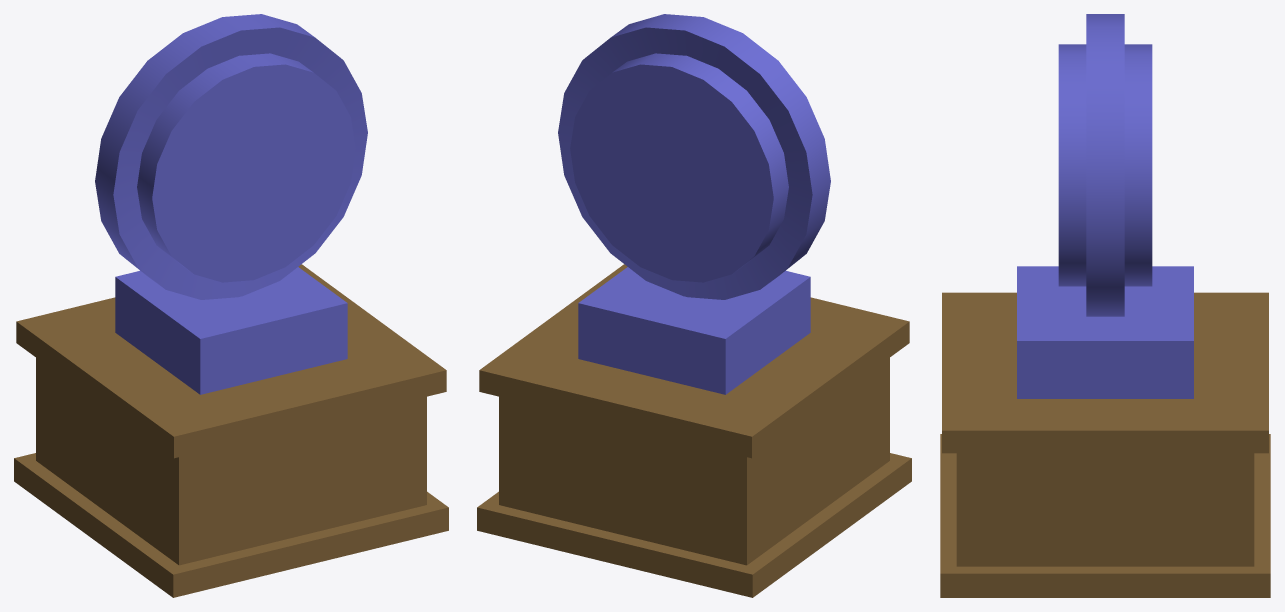
Rendered from bispo.fbx.
3 views of the same model, side by side, from view 1: azimuth 30°, elevation 25°; view 2: azimuth 150°, elevation 25°; view 3: azimuth 270°, elevation 25° (orthographic). The views are drawn at different scales.
Parts seen in each view (by area): view 1: Plane; view 2: Plane; view 3: Plane.
Boxes of the visible parts, x1,y1,x2,y2 form: Plane: [14, 14, 448, 597]; Plane: [477, 14, 911, 597]; Plane: [940, 14, 1270, 597].
Bounding box in the file's own units: 400 × 669 × 400.
